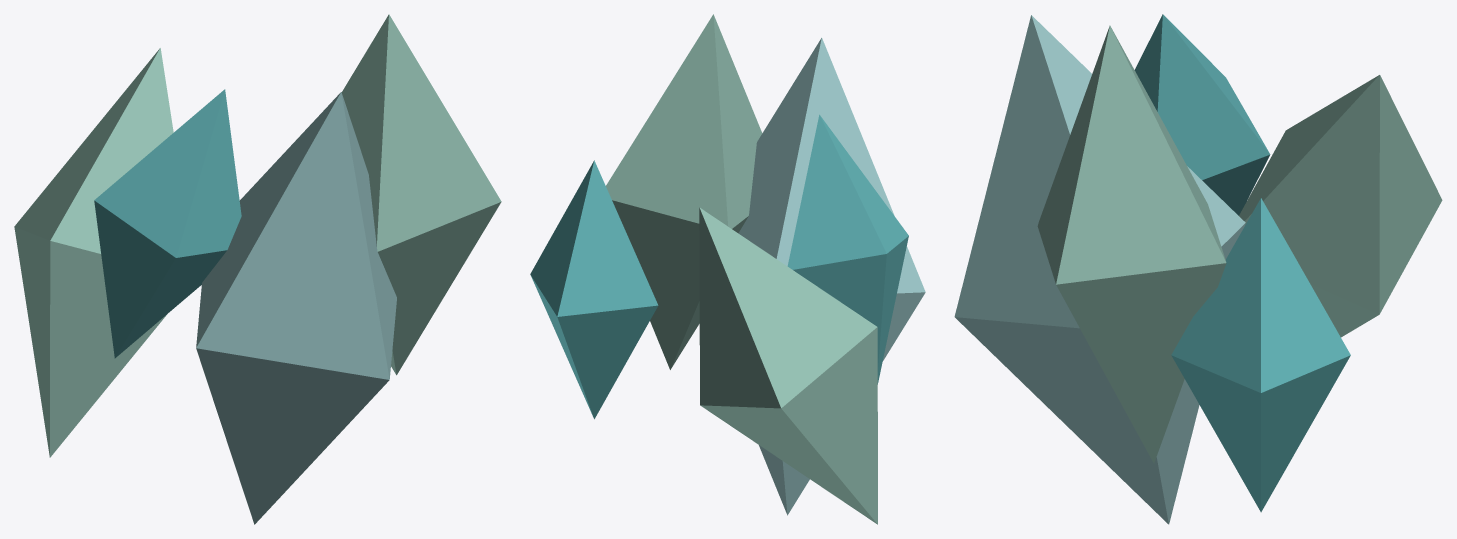
The model's file is shoreline_crystal.glb.
3 views of the same model, side by side, from view 1: azimuth 30°, elevation 25°; view 2: azimuth 150°, elevation 25°; view 3: azimuth 270°, elevation 25° (orthographic). The views are drawn at different scales.
Parts seen in each view (by area): view 1: crystal_2, crystal_1, crystal_4, crystal_3; view 2: crystal_4, crystal_1, crystal_0, crystal_2, crystal_3; view 3: crystal_1, crystal_2, crystal_4, crystal_0, crystal_3.
Part boxes in pixels (bbox=[...]): crystal_2: bbox=[196, 92, 396, 524]; crystal_1: bbox=[341, 14, 501, 375]; crystal_4: bbox=[14, 48, 173, 457]; crystal_3: bbox=[94, 89, 241, 358]; crystal_4: bbox=[699, 207, 877, 524]; crystal_1: bbox=[606, 14, 762, 369]; crystal_0: bbox=[530, 160, 658, 419]; crystal_2: bbox=[738, 37, 925, 515]; crystal_3: bbox=[787, 114, 908, 384]; crystal_1: bbox=[1037, 25, 1226, 463]; crystal_2: bbox=[954, 15, 1245, 524]; crystal_4: bbox=[1239, 75, 1442, 337]; crystal_0: bbox=[1171, 198, 1350, 512]; crystal_3: bbox=[1134, 14, 1270, 215].
Size of what is drawn, in the model's own units: 1.88 by 2.31 by 1.83.
